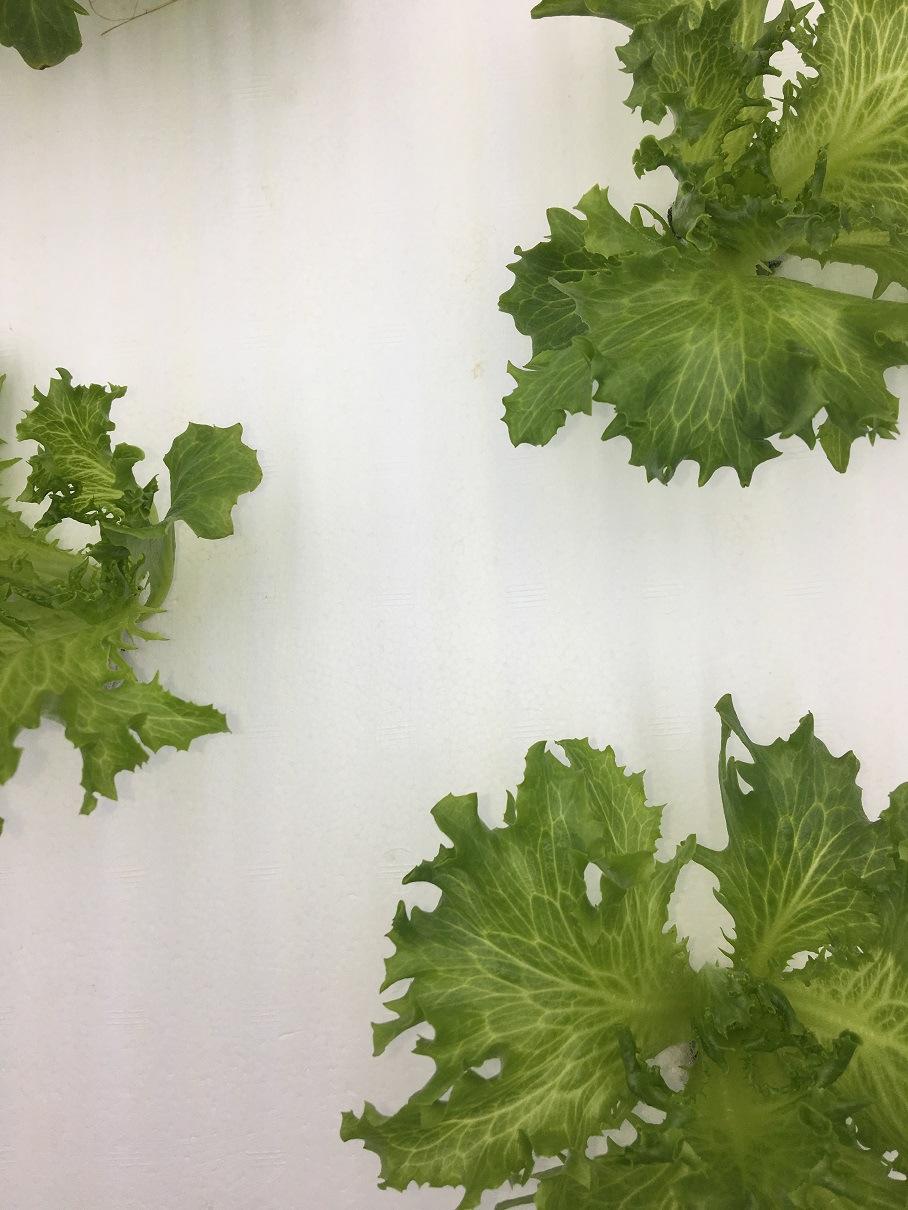tipburn: (35, 59, 57, 82), (233, 418, 249, 437), (222, 529, 241, 544)
